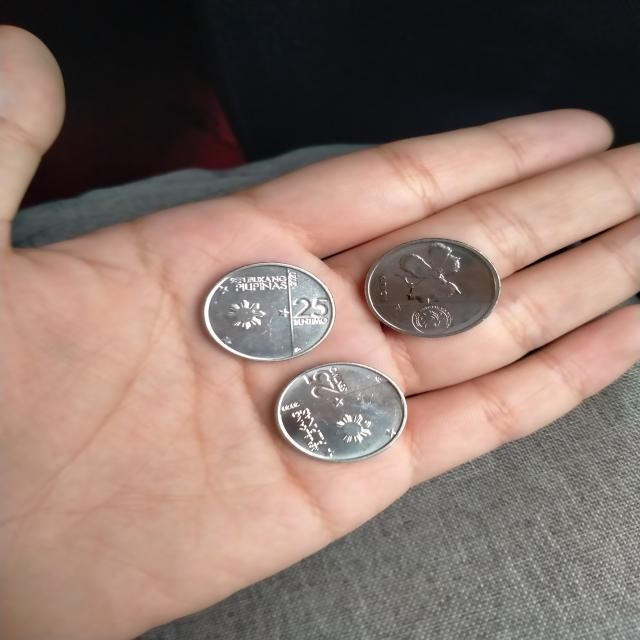25Cent_New_Back: (384, 244, 466, 305)
25Cent_New_Front: (300, 364, 359, 396), (290, 294, 330, 328)
